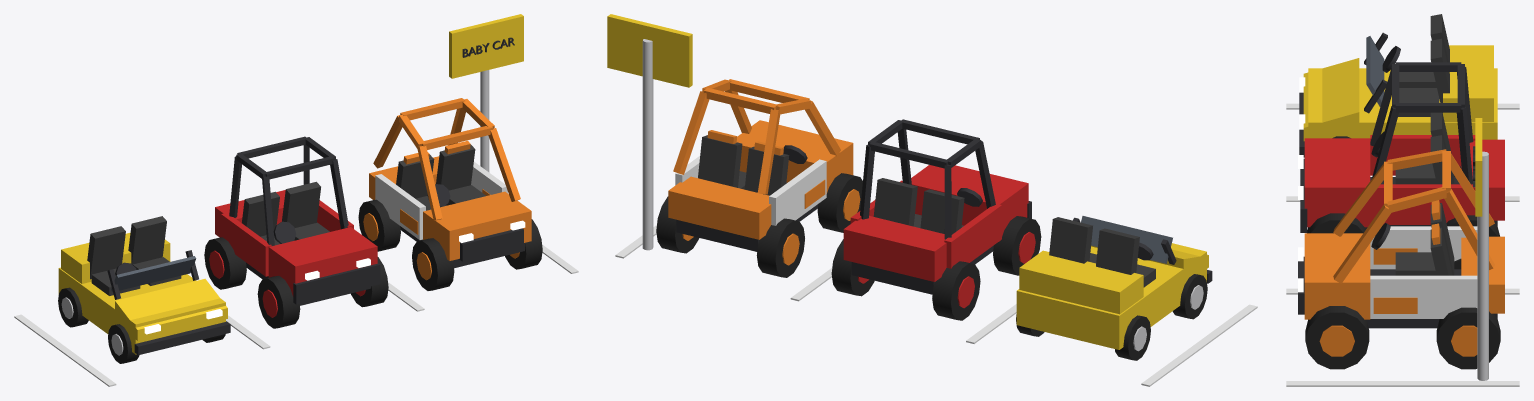
3 views of the same model, side by side, from view 1: azimuth 30°, elevation 25°; view 2: azimuth 150°, elevation 25°; view 3: azimuth 270°, elevation 25° (orthographic). The views are drawn at different scales.
Visible parts, largest first — view 1: tour2, tour1, tour0, base; view 2: tour2, tour1, tour0, base; view 3: tour2, tour1, tour0, base.
Boxes of the visible parts, x1,y1,x2,y2 form: tour2: (358,98,542,290); tour1: (204,136,388,328); tour0: (58,216,230,363); base: (14,14,578,386); tour2: (656,79,862,277); tour1: (831,119,1041,320); tour0: (1016,216,1212,360); base: (607,14,1257,386); tour2: (1298,149,1504,369); tour1: (1298,62,1504,236); tour0: (1299,14,1497,157); base: (1286,103,1519,386).
Bounding box in the file's own units: 4.79 × 1.81 × 1.6.
